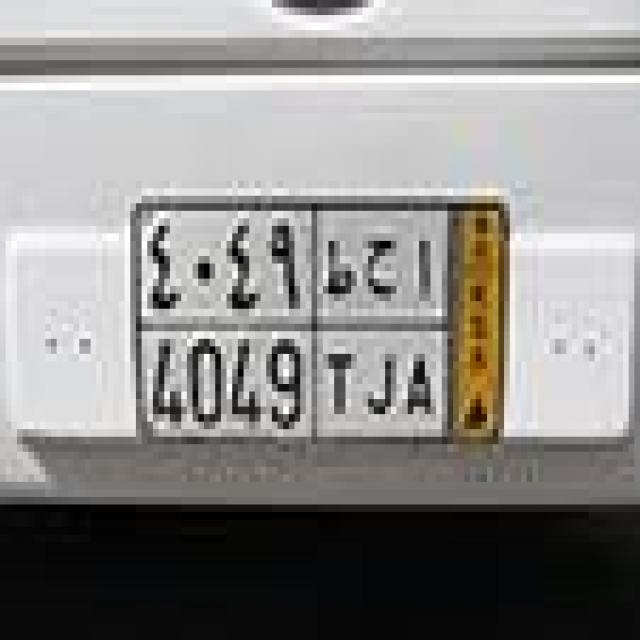license_plate: (62, 120, 550, 497)
